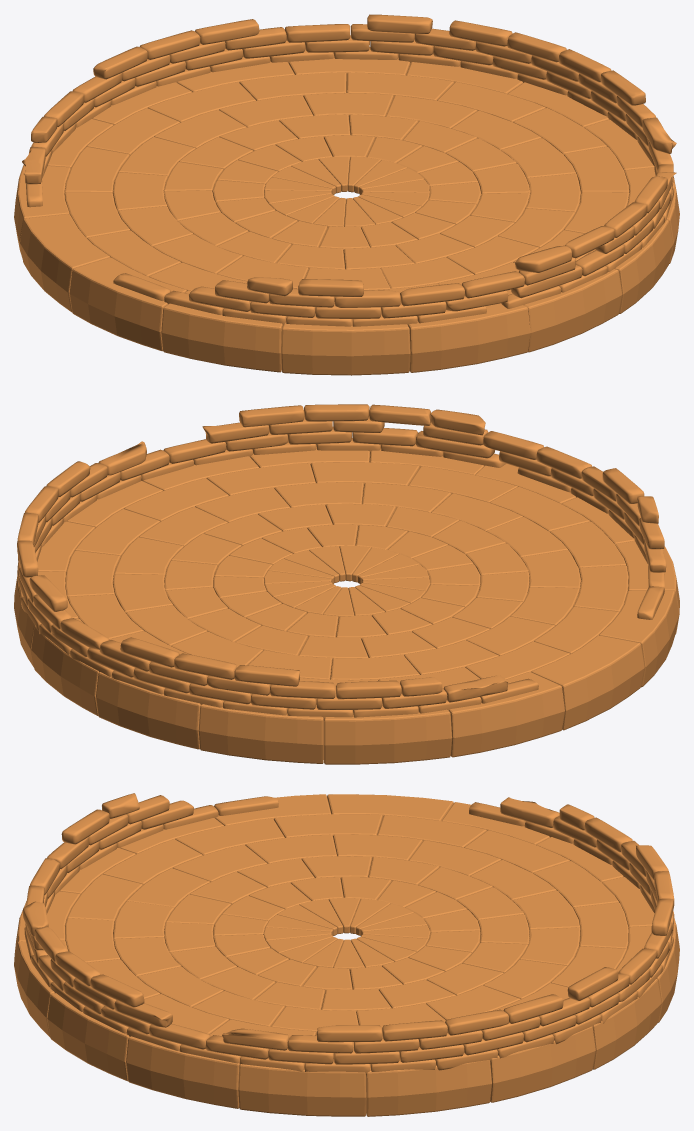
Rendered from Envi1_Greek.fbx.
3 views of the same model, one above another, from view 1: azimuth 30°, elevation 25°; view 2: azimuth 150°, elevation 25°; view 3: azimuth 270°, elevation 25° (orthographic).
Visible parts, largest first — view 1: Ground1, Wall.001; view 2: Ground1, Wall.001; view 3: Ground1, Wall.001.
Boxes of the visible parts, <box> form: Ground1: <box>14,54,679,375</box>; Wall.001: <box>22,14,676,326</box>; Ground1: <box>14,445,679,764</box>; Wall.001: <box>17,404,666,720</box>; Ground1: <box>14,794,679,1116</box>; Wall.001: <box>22,793,674,1075</box>.
Size of the model in its own units: 27.29 by 3.84 by 27.29.
